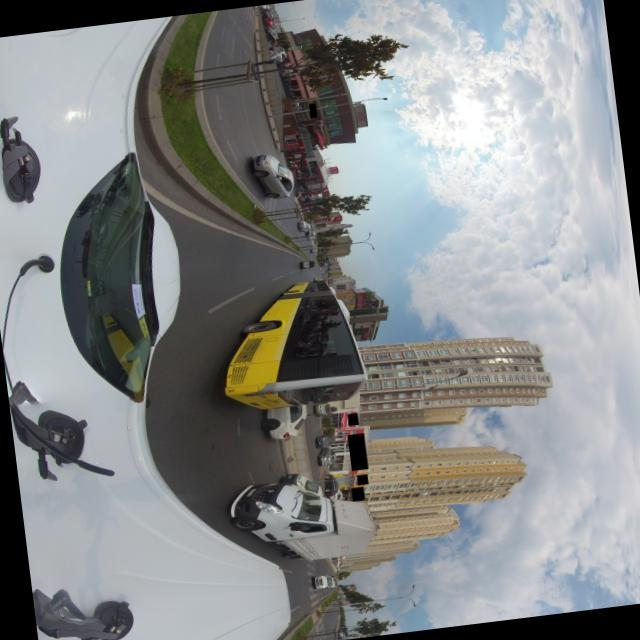SignStore: (350, 433, 363, 471), (351, 487, 362, 501), (347, 413, 356, 426), (308, 104, 316, 118), (357, 474, 366, 485)
